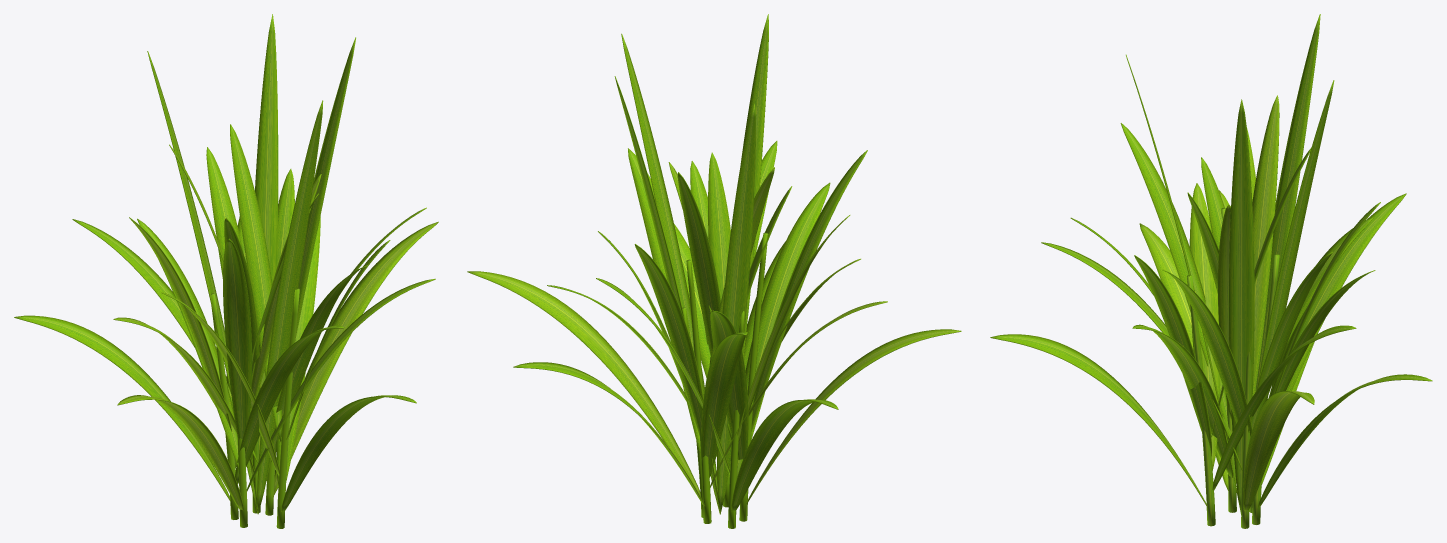
File: NP_Wheat_Young.fbx
The picture shows the model from 3 angles, left to right: view 1: azimuth 30°, elevation 25°; view 2: azimuth 150°, elevation 25°; view 3: azimuth 270°, elevation 25°; orthographic projection. The views are drawn at different scales.
Visible parts, largest first — view 1: NP_Wheat_Young; view 2: NP_Wheat_Young; view 3: NP_Wheat_Young.
Boxes of the visible parts, x1=… form: NP_Wheat_Young: x1=14, y1=14, x2=438, y2=528; NP_Wheat_Young: x1=467, y1=14, x2=961, y2=528; NP_Wheat_Young: x1=990, y1=14, x2=1432, y2=528.
Size of the model in its own units: 73.03 by 78.62 by 66.96.
